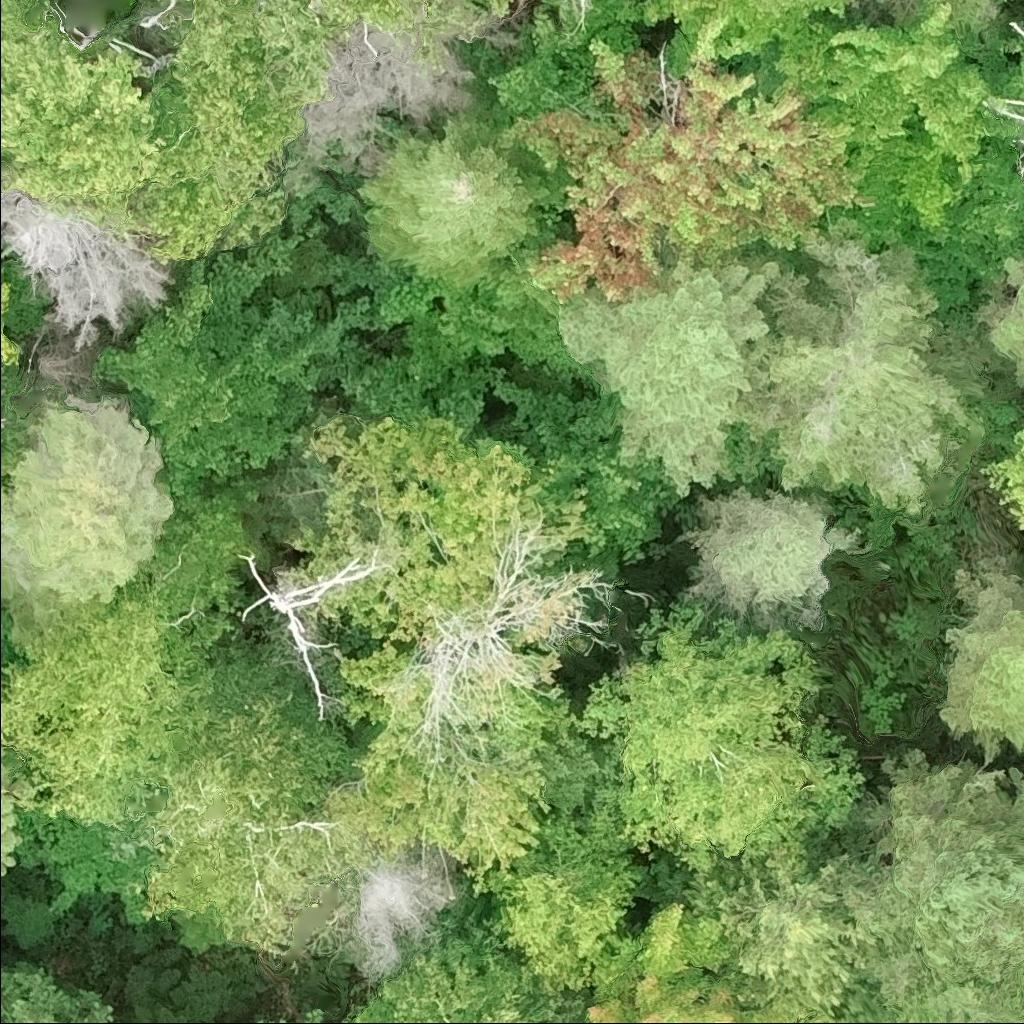crown: (498, 12, 854, 304), (118, 676, 379, 959), (585, 605, 865, 867), (98, 233, 391, 473), (737, 236, 984, 515), (294, 413, 590, 645), (338, 642, 590, 895), (559, 261, 818, 499), (772, 6, 1023, 247), (116, 0, 323, 262), (401, 525, 619, 772), (0, 588, 224, 827), (862, 767, 1023, 1000), (0, 0, 167, 222), (0, 403, 177, 612), (687, 842, 884, 1017), (491, 793, 636, 999), (590, 902, 834, 1023), (360, 123, 540, 287), (0, 180, 169, 353), (229, 545, 395, 718), (382, 246, 576, 381), (350, 925, 598, 1023), (532, 382, 670, 557), (680, 490, 850, 627), (317, 842, 459, 986), (944, 563, 1023, 752), (294, 0, 507, 54), (957, 127, 1023, 266), (884, 967, 1023, 1023), (0, 966, 116, 1023), (985, 258, 1023, 393), (984, 434, 1023, 529), (0, 790, 22, 868), (0, 282, 20, 364), (750, 0, 849, 12), (987, 96, 1023, 124), (280, 1009, 327, 1023), (1008, 10, 1023, 44), (1015, 137, 1023, 187), (580, 0, 590, 35), (258, 1018, 269, 1023)
